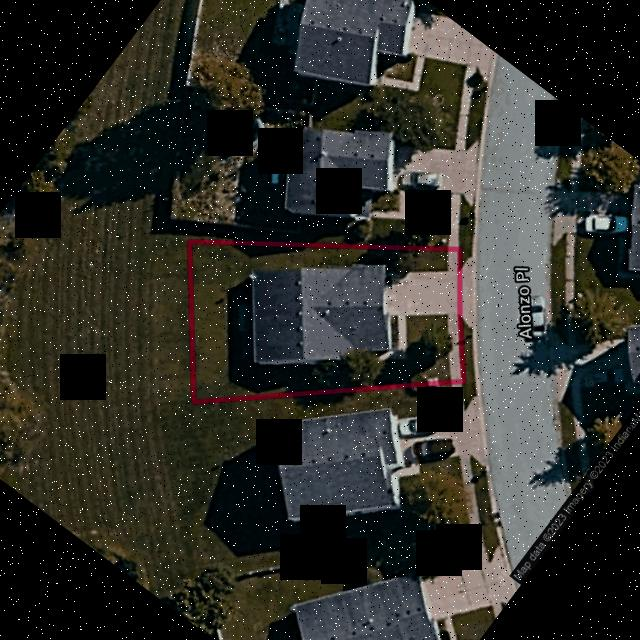Driveway: (379, 267, 455, 360)
Extra Driveway: (463, 256, 478, 328)
Extra Lawn: (464, 323, 475, 380), (463, 244, 474, 260)
House: (251, 264, 393, 364)
